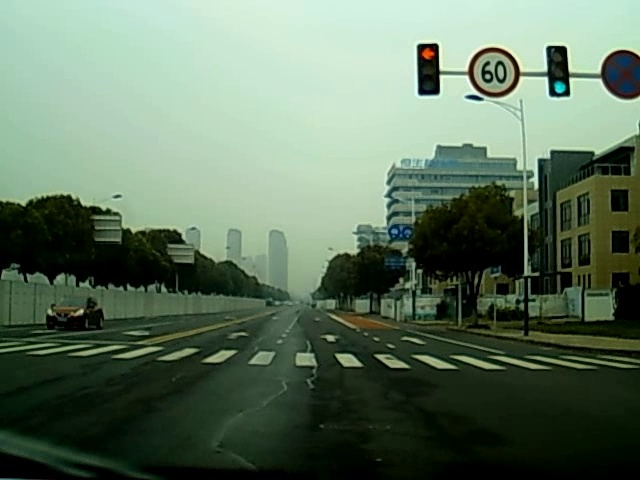Traffic_Light_go: (549, 50, 571, 96)
Traffic_Light_stop: (416, 46, 436, 94)
